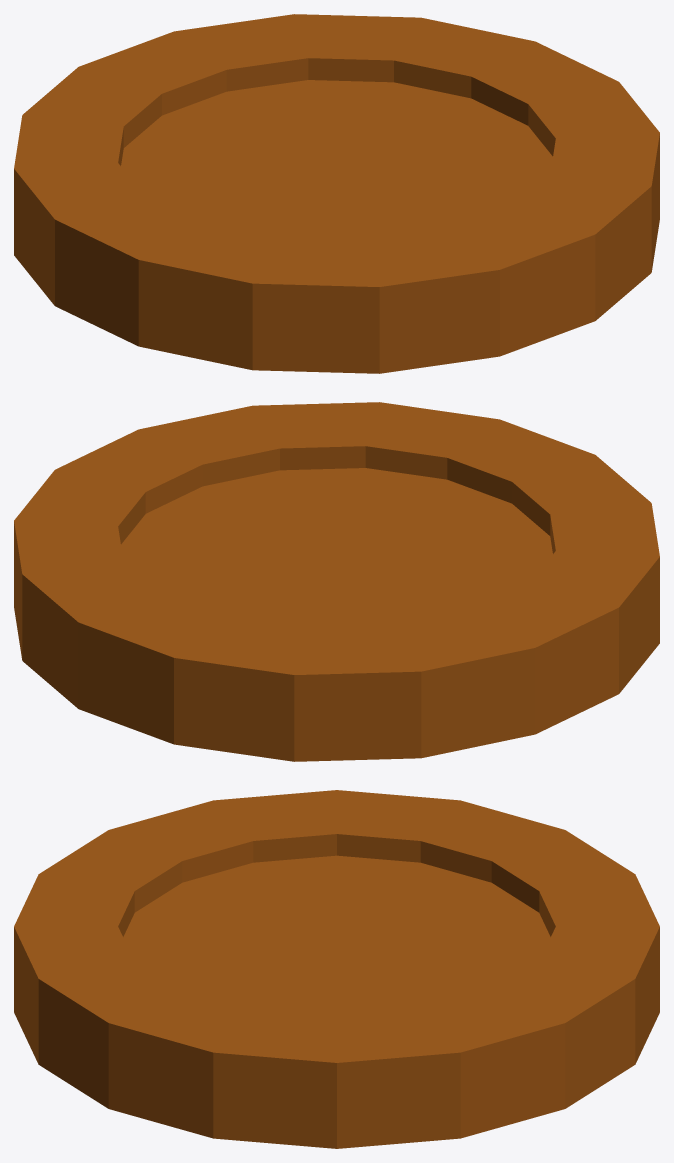
The model's file is coin.obj.
3 views of the same model, one above another, from view 1: azimuth 30°, elevation 25°; view 2: azimuth 150°, elevation 25°; view 3: azimuth 270°, elevation 25° (orthographic).
Visible parts, largest first — view 1: coin; view 2: coin; view 3: coin.
Boxes of the visible parts, left/top/right/bottom form: coin: left=14, top=14, right=659, bottom=373; coin: left=14, top=402, right=659, bottom=761; coin: left=14, top=790, right=659, bottom=1148.
Bounding box in the file's own units: 0.4935 × 0.0724 × 0.4935.
